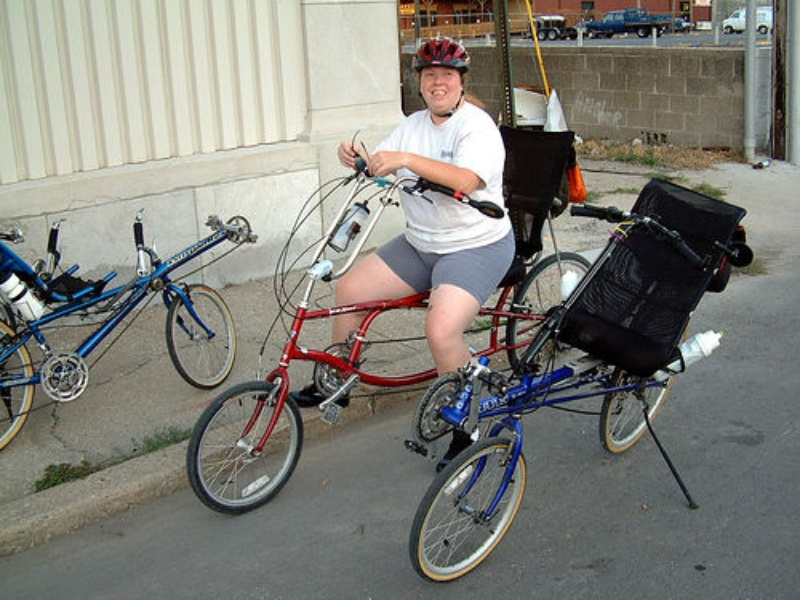car: (579, 6, 671, 39), (722, 6, 774, 35), (526, 16, 576, 39)
person: (289, 36, 516, 408)
